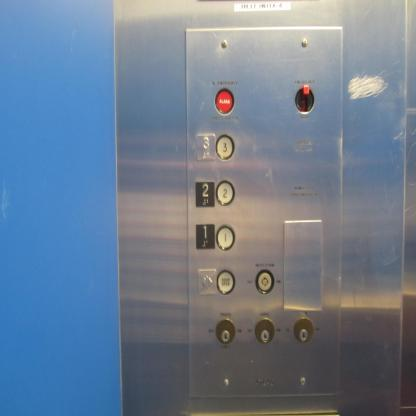1: (194, 223, 216, 250), (215, 223, 235, 251)
2: (215, 179, 235, 208), (194, 181, 214, 209)
3: (194, 133, 216, 162), (215, 134, 235, 162)
keyhole: (293, 316, 314, 344), (215, 318, 236, 345), (255, 318, 274, 346), (255, 269, 273, 294)
open: (196, 268, 216, 294)
text_alarm bell: (214, 88, 236, 116)
unknown: (292, 82, 315, 116), (216, 269, 235, 296)
